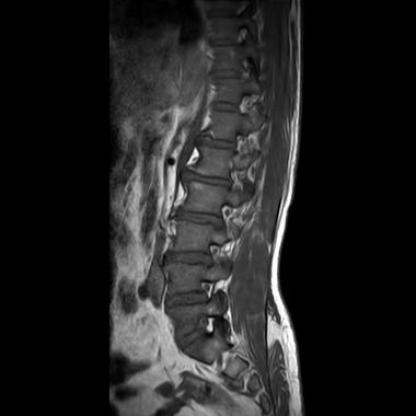Annular Tearrotation: (162, 286, 208, 310)
Disc Bulgerotation: (170, 206, 221, 229), (164, 244, 212, 268), (162, 286, 208, 310)
Disc Protrusionrotation: (179, 171, 236, 190)
